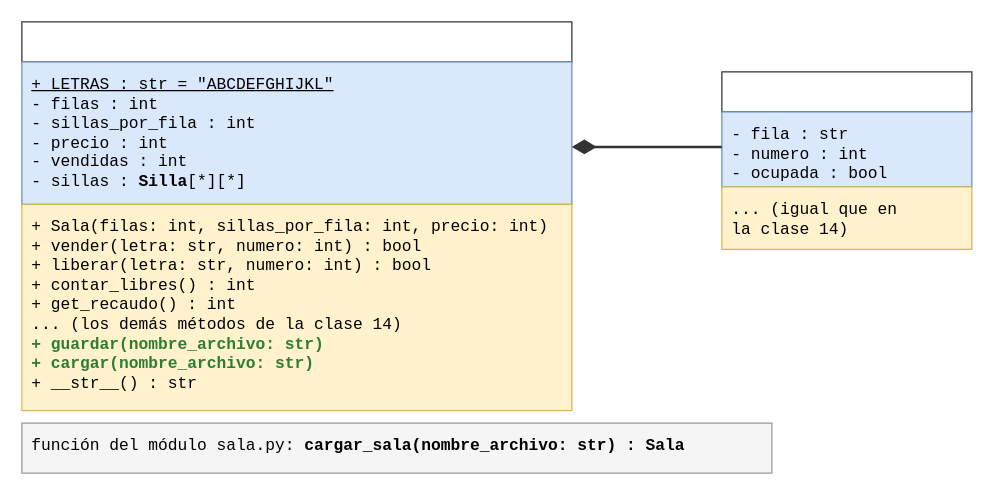
Some shapes in this 994 by 495 pixel diagram are drawn without their labels. Each missing label, with the centre of its shape:
"Sala" belongs at point 296,41.
"Silla" belongs at point 846,91.
